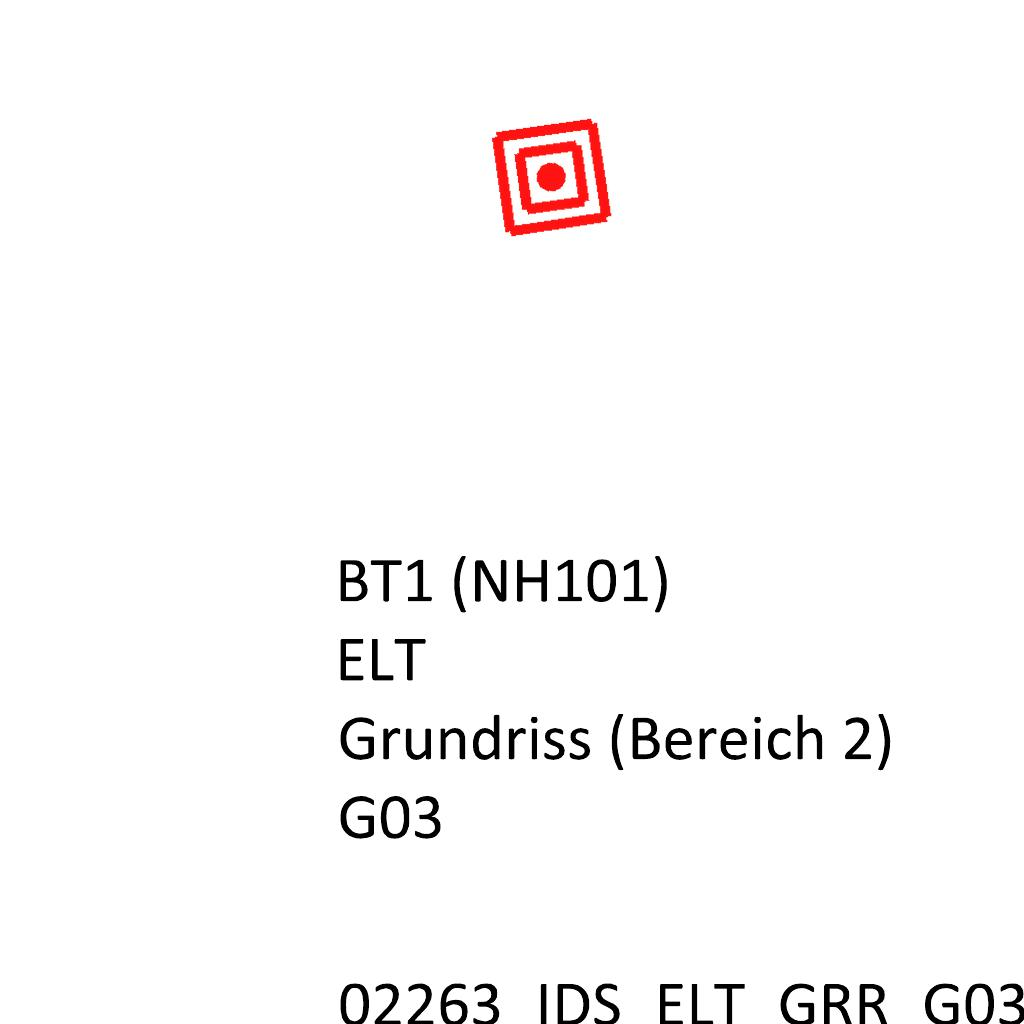NAM-Nichtautomatischer_Melder: (487, 113, 616, 242)
